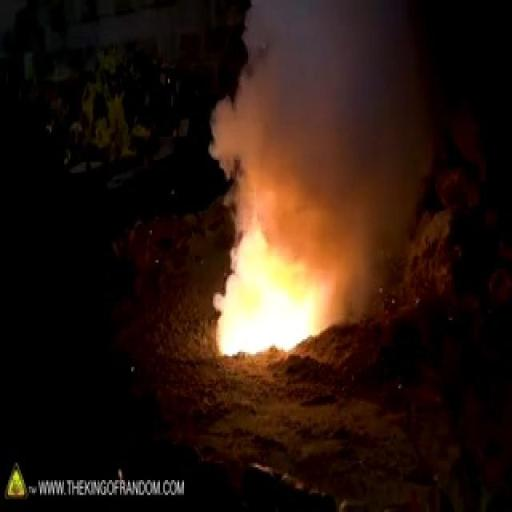smoke: (208, 200, 328, 360)
